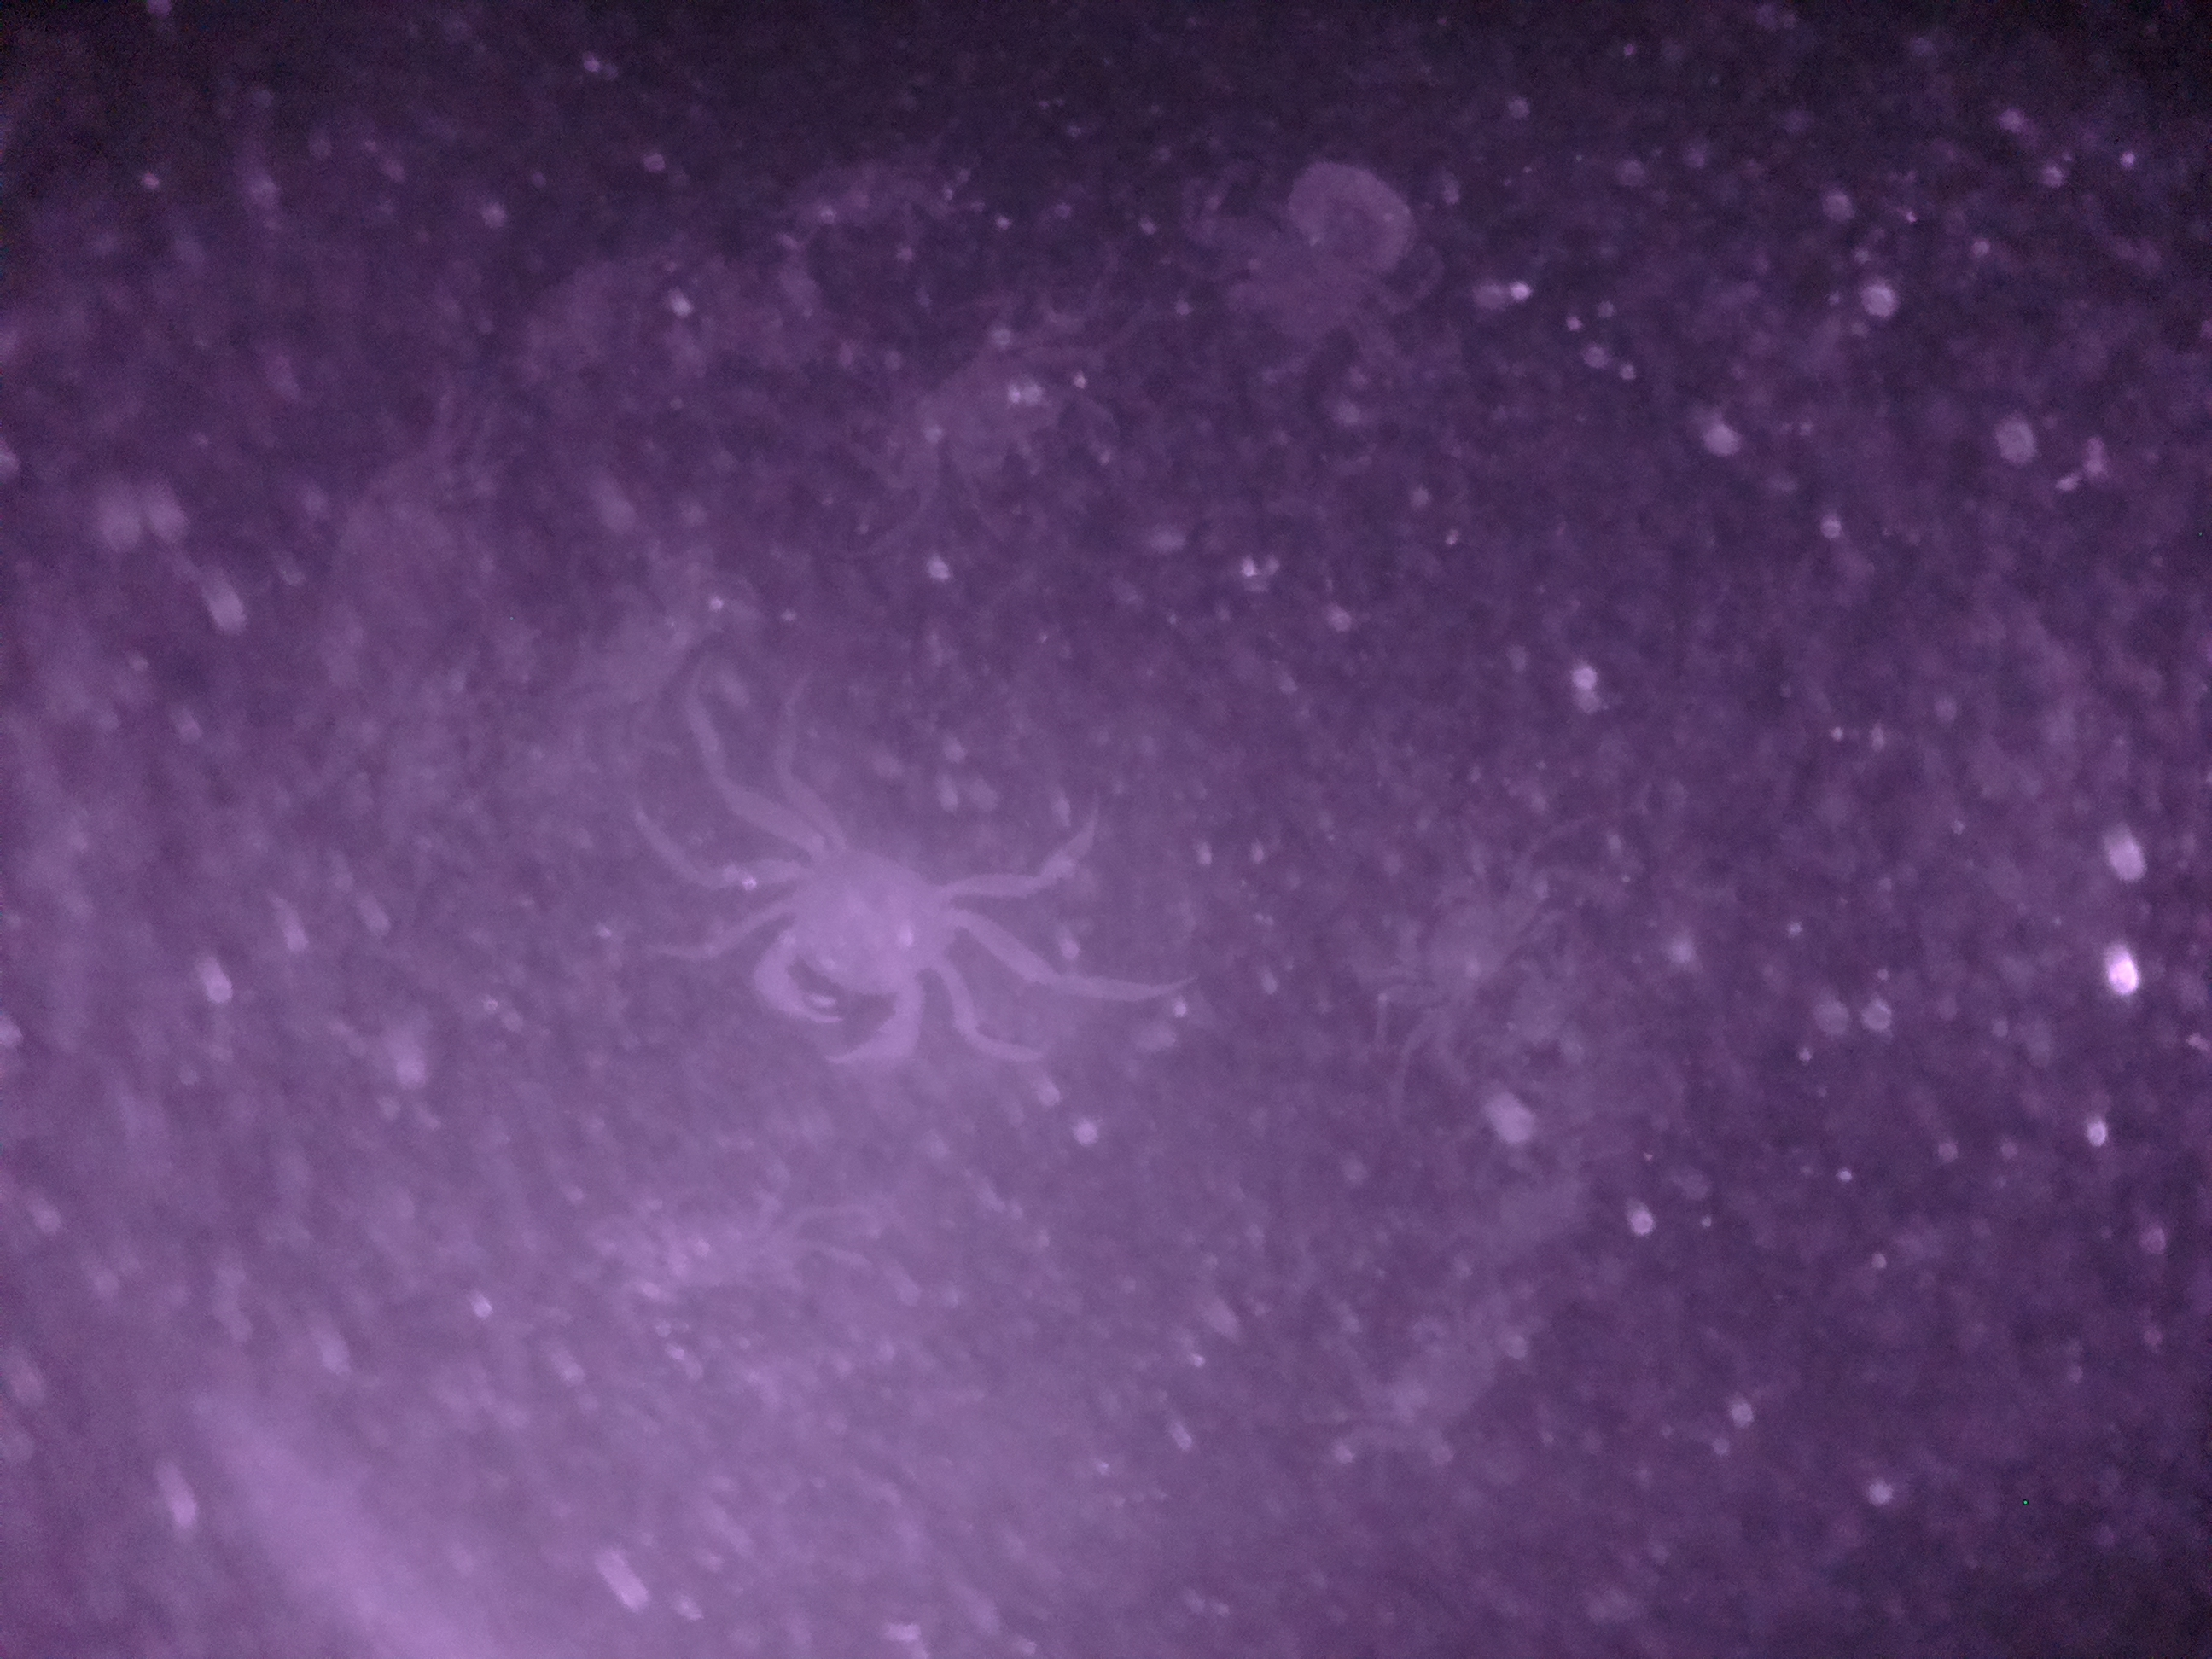Crab: (705, 788, 996, 1086)
